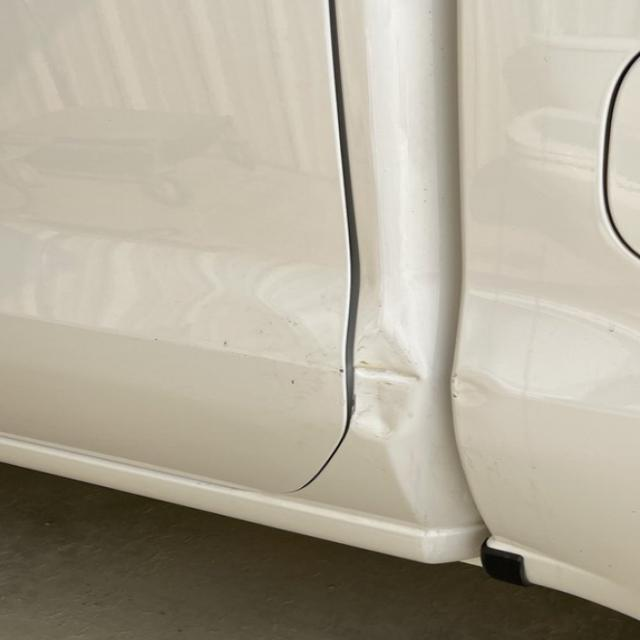dents: (333, 320, 440, 446)
